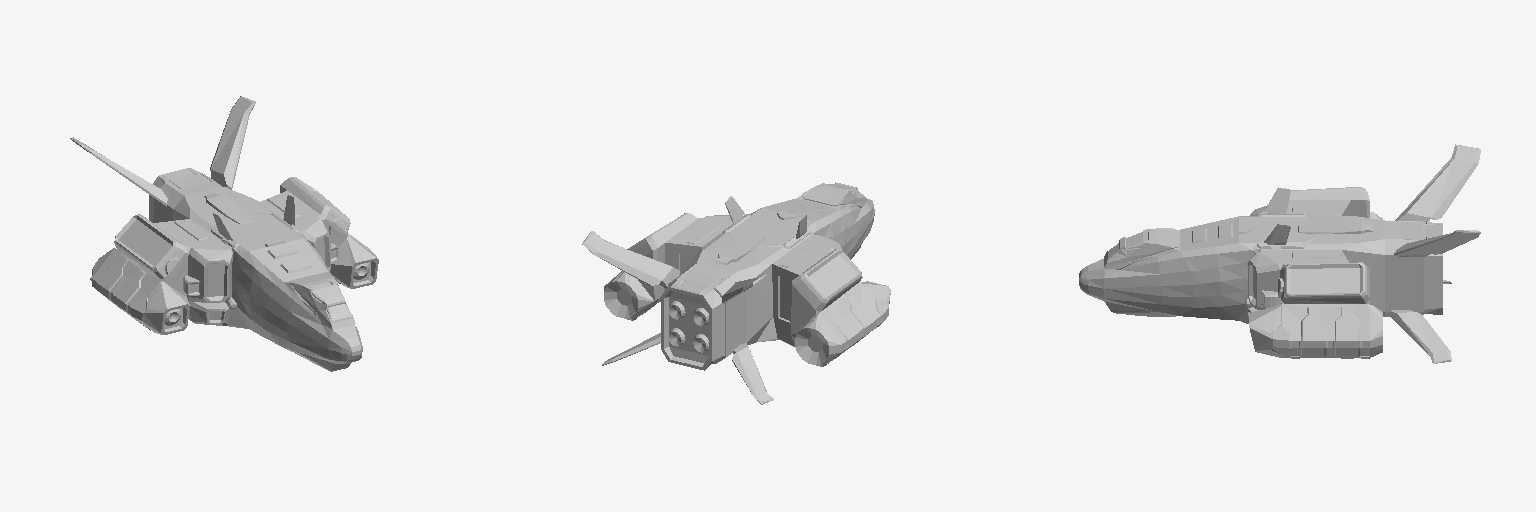
Rendered from bst_attackbomber.obj.
The picture shows the model from 3 angles: view 1: azimuth 30°, elevation 25°; view 2: azimuth 150°, elevation 25°; view 3: azimuth 270°, elevation 25°; orthographic projection.
Parts seen in each view (by area): view 1: Tai_AttackBomber, Tai_AttackBomber_badge; view 2: Tai_AttackBomber, Tai_MultiGunCorvette_Engine; view 3: Tai_AttackBomber, Tai_AttackBomber_badge.
Part boxes in pixels (bbox=[...]): Tai_AttackBomber: bbox=[70, 96, 378, 371]; Tai_AttackBomber_badge: bbox=[238, 270, 263, 328]; Tai_AttackBomber: bbox=[582, 182, 890, 404]; Tai_MultiGunCorvette_Engine: bbox=[661, 287, 711, 370]; Tai_AttackBomber: bbox=[1079, 144, 1480, 363]; Tai_AttackBomber_badge: bbox=[1199, 263, 1244, 307].
Bounding box in the file's own units: 17.66 × 9.66 × 25.75.